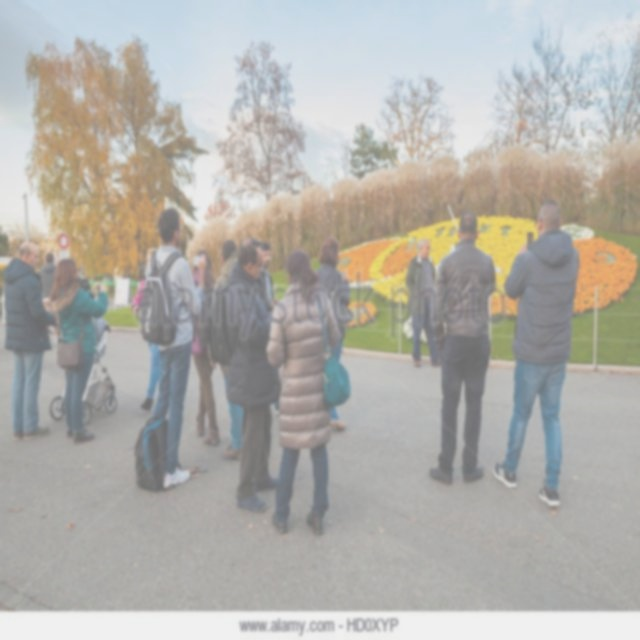pessoa: (491, 198, 580, 510), (265, 247, 352, 536), (210, 236, 281, 514), (139, 205, 207, 490), (428, 208, 497, 486), (42, 255, 109, 442), (1, 239, 58, 443), (315, 233, 355, 432), (212, 239, 245, 461), (189, 249, 221, 447), (131, 247, 163, 412), (405, 239, 442, 368), (257, 239, 276, 314), (39, 250, 57, 300), (76, 266, 93, 291), (271, 396, 282, 416)
